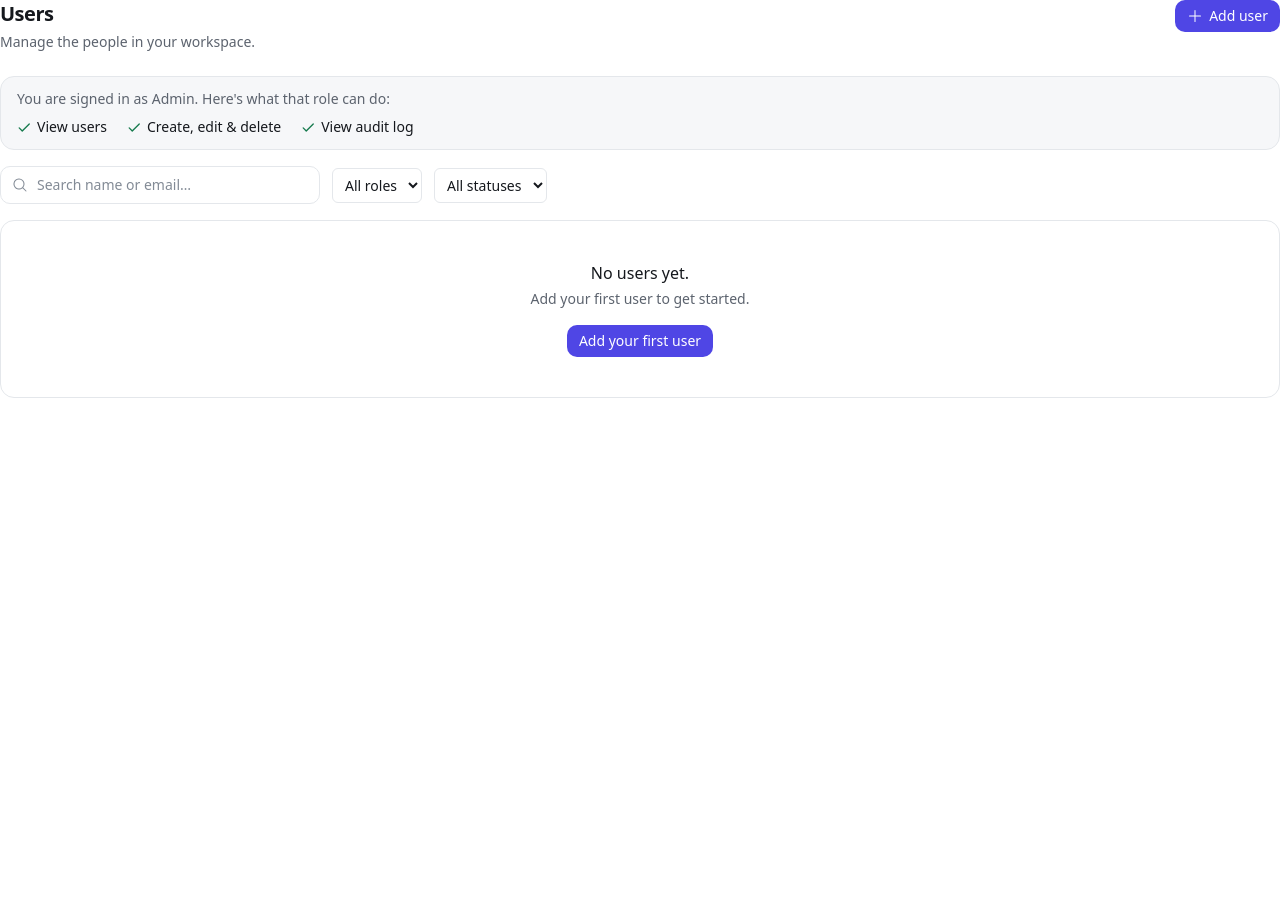
UsersPage › shows a first-run empty state with an add action
Check: the text "No users yet." is shown, box [591,262,689,284]
Click the button "Add your first user".
click(640, 341)  # box [567,325,713,357]
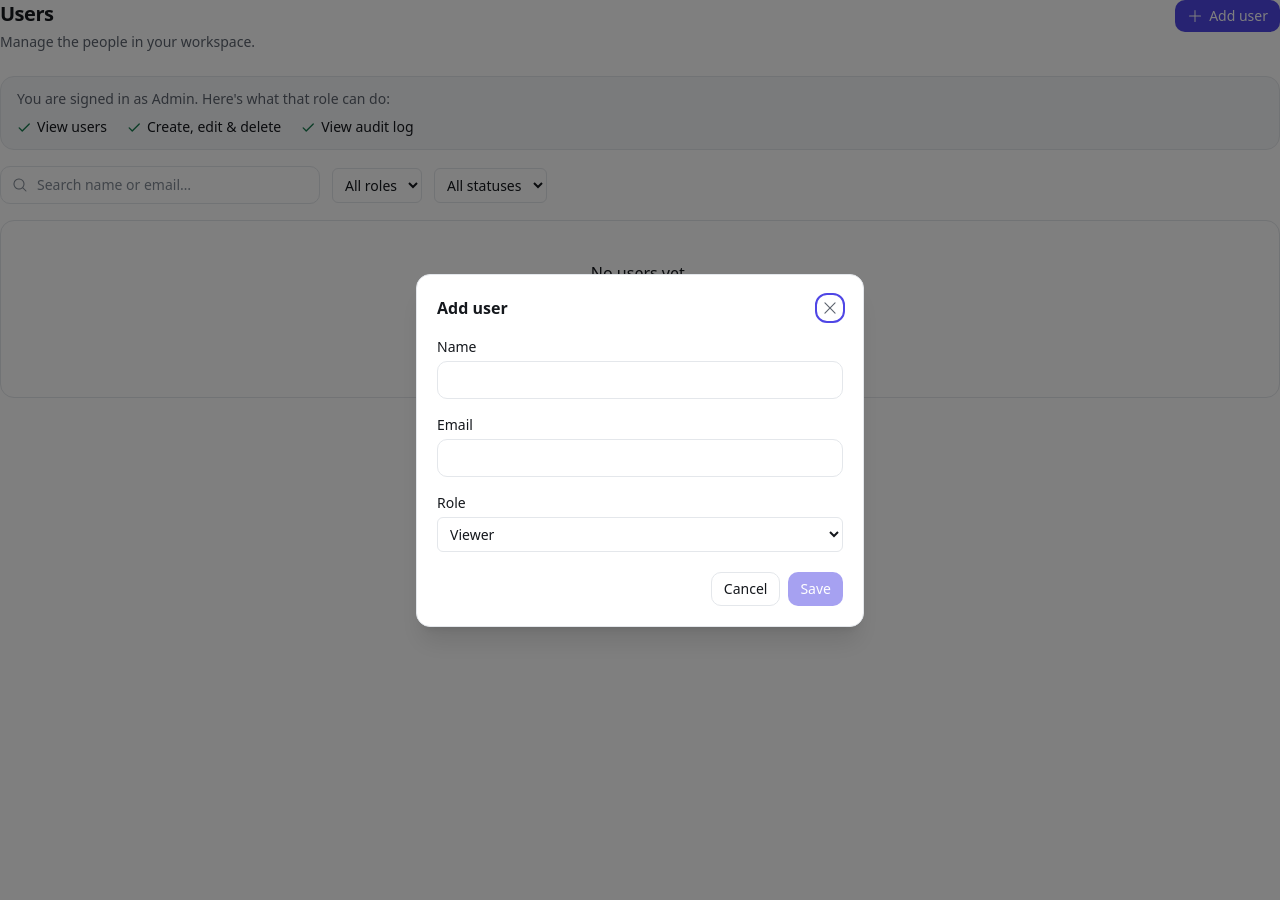
Check: the field labelled "Name" is shown, box [437,360,843,398]
